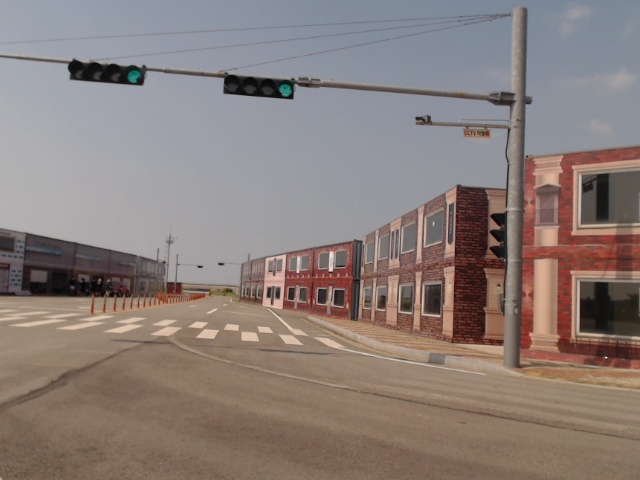straight_green_4: (224, 73, 296, 100), (71, 60, 145, 86)
